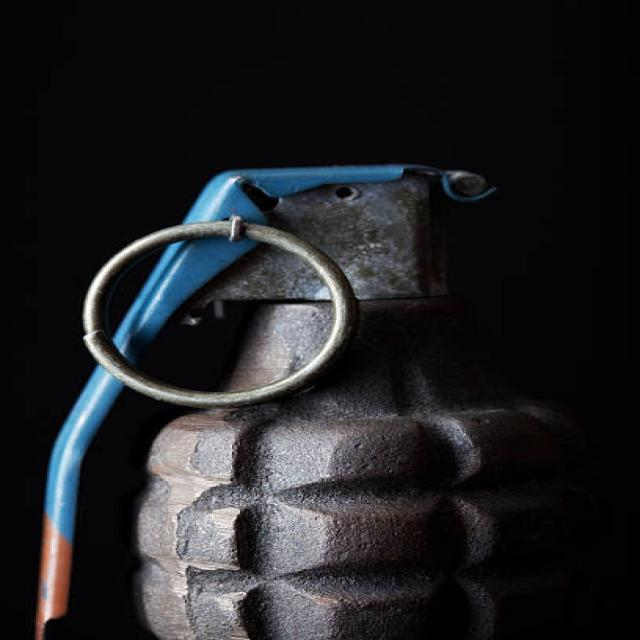grenade: (16, 152, 640, 640)
